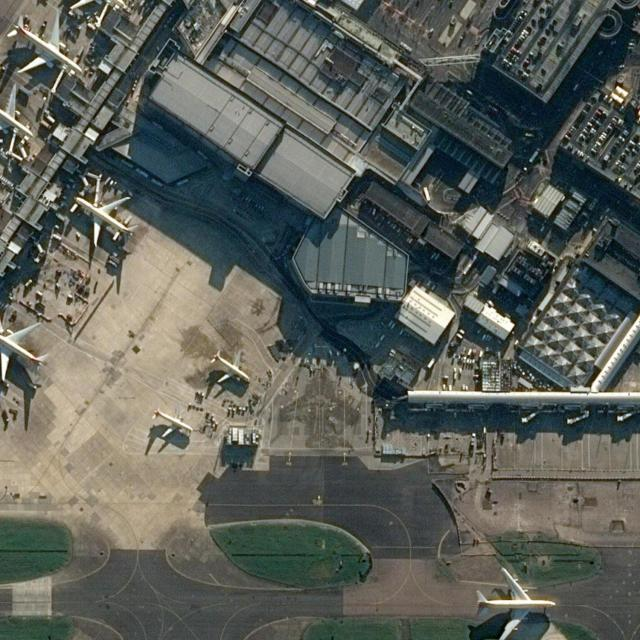Aircraft: (472, 568, 556, 640), (5, 12, 85, 78), (73, 195, 139, 251), (0, 322, 49, 383), (0, 83, 35, 144), (207, 349, 251, 387), (150, 404, 194, 440)
